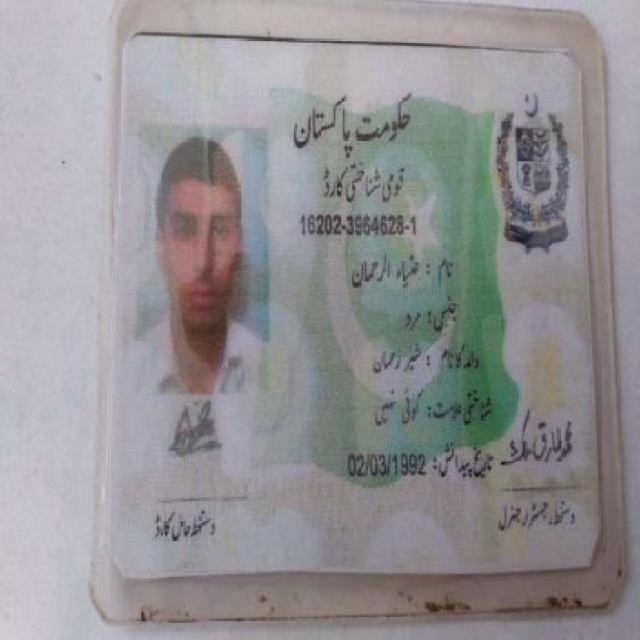Front: (108, 18, 606, 596)
